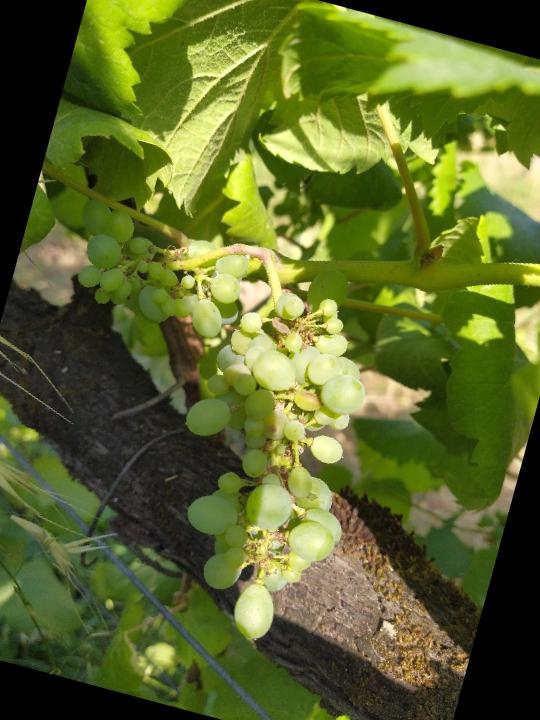grape: (0, 191, 415, 662)
